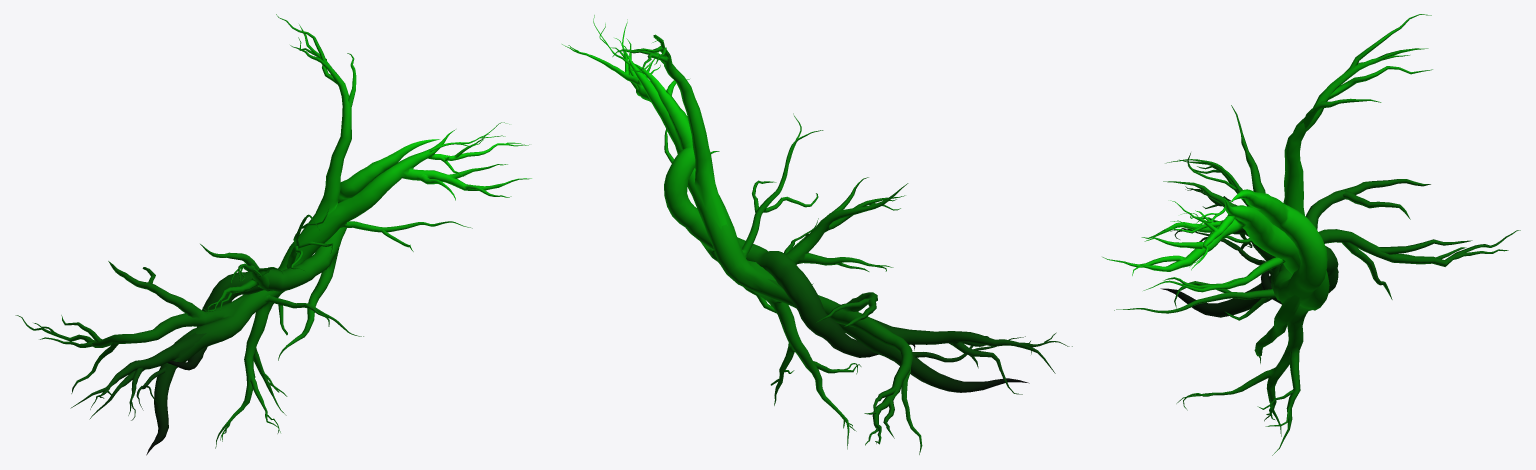
The model's file is BigRoots_1.fbx.
3 renders of one model, left to right at view 1: azimuth 30°, elevation 25°; view 2: azimuth 150°, elevation 25°; view 3: azimuth 270°, elevation 25°, orthographic. The views are drawn at different scales.
Parts seen in each view (by area): view 1: BigRoots_1_LOD0; view 2: BigRoots_1_LOD0; view 3: BigRoots_1_LOD0.
Part boxes in pixels (x1,y1,x2,y2): BigRoots_1_LOD0: [15, 14, 531, 455]; BigRoots_1_LOD0: [562, 15, 1072, 454]; BigRoots_1_LOD0: [1102, 14, 1520, 455].
Size of what is drawn, in the model's own units: 1871 by 1468 by 1122.
